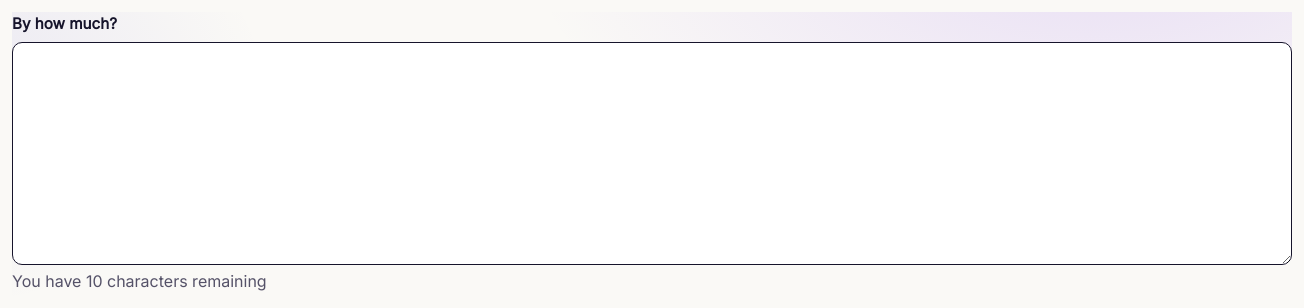
CharacterCount › counts as the user types
The width and height of the screenshot is (1304, 308).
Step 1. Type "By 40%" into the text box labelled "By how much?" → (652, 153), box [12,42,1292,265]
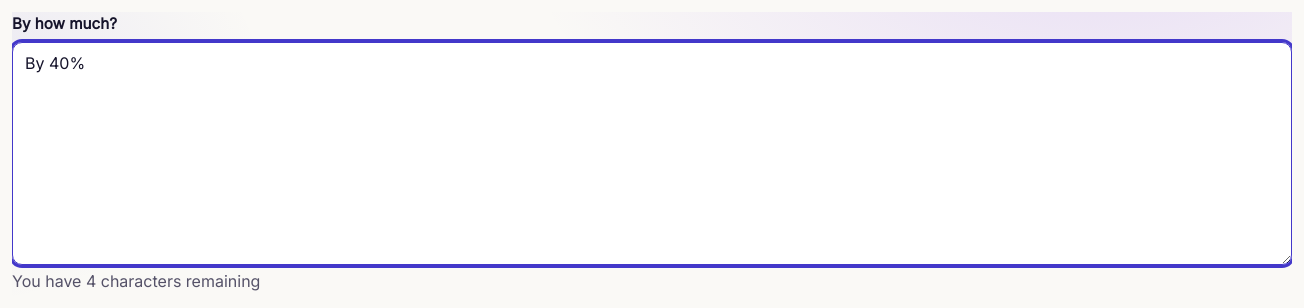
Expected: the text "You have 4 characters remaining" is shown, [12,271,260,291]
